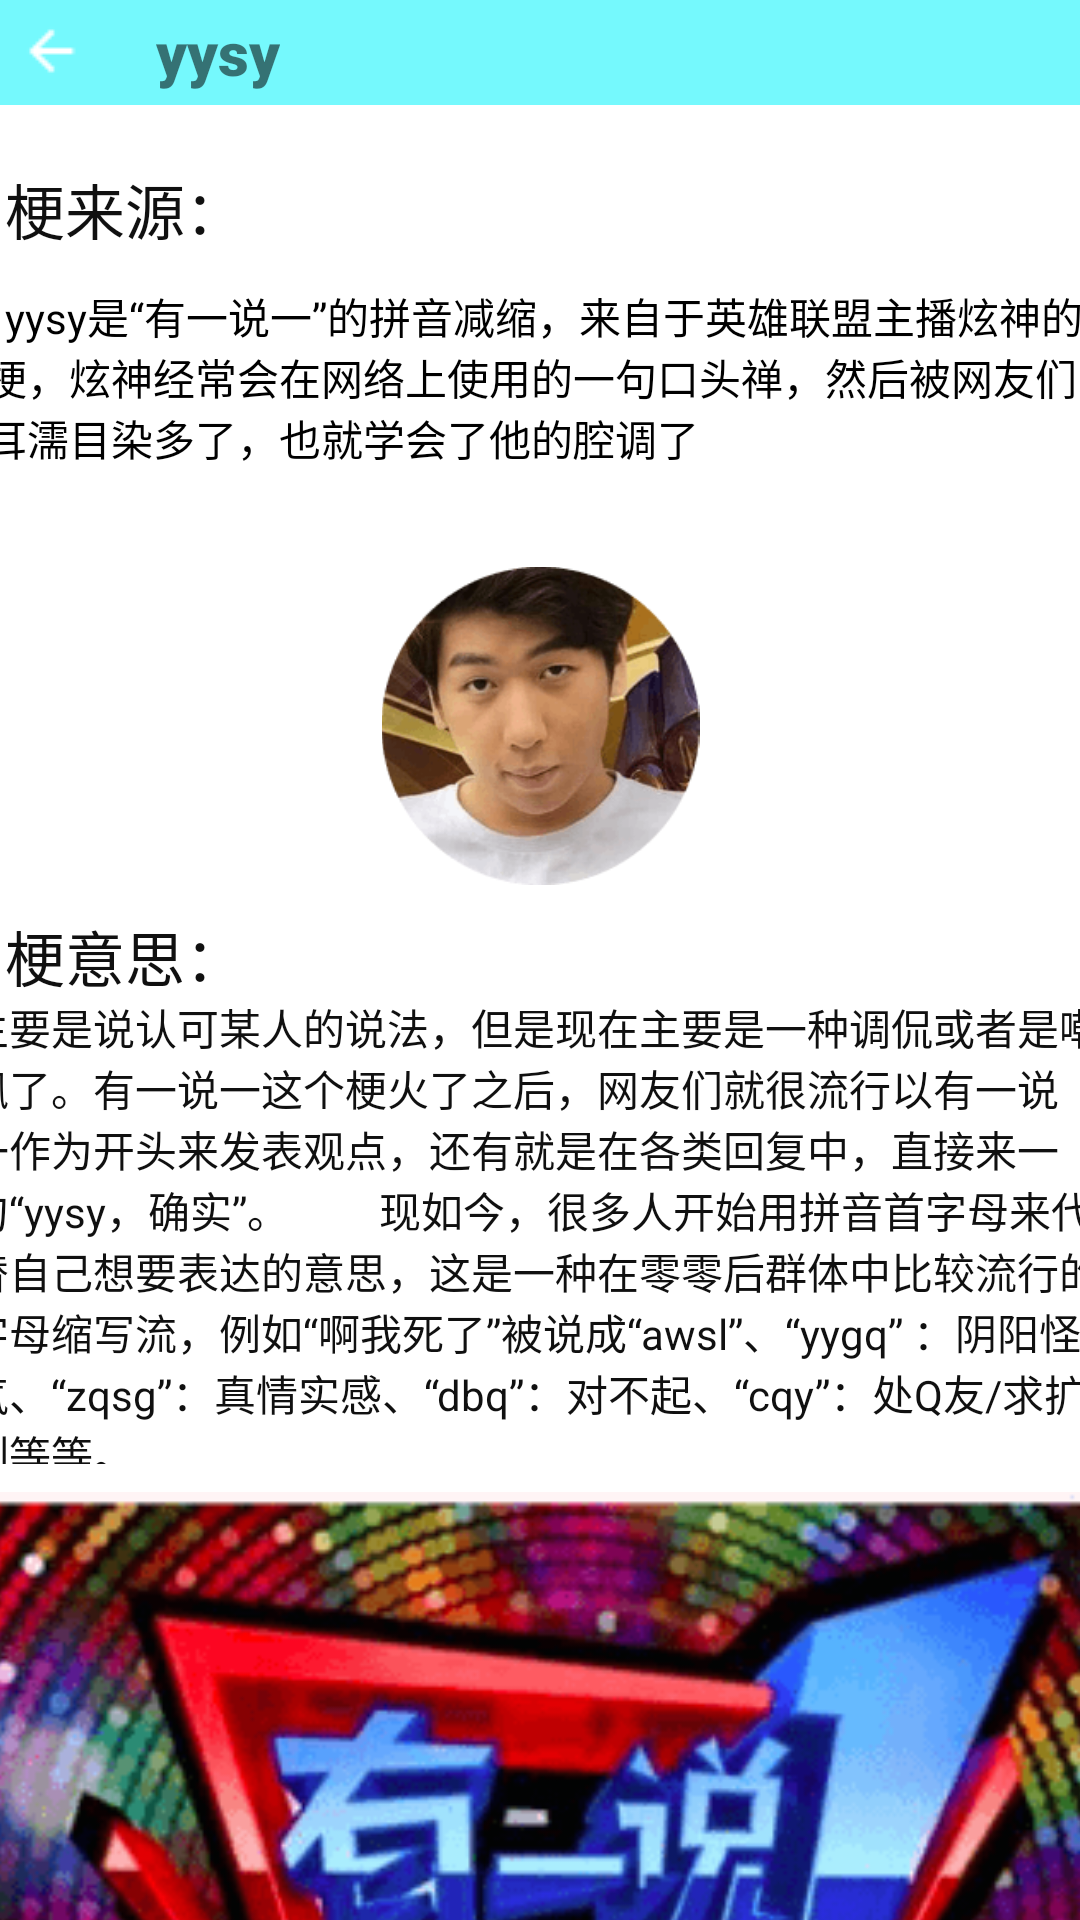

Icons on this 1080×1920 Android screen, each with its box as bbox(x1, y1, x2, y2):
goback: bbox(29, 29, 75, 73)
